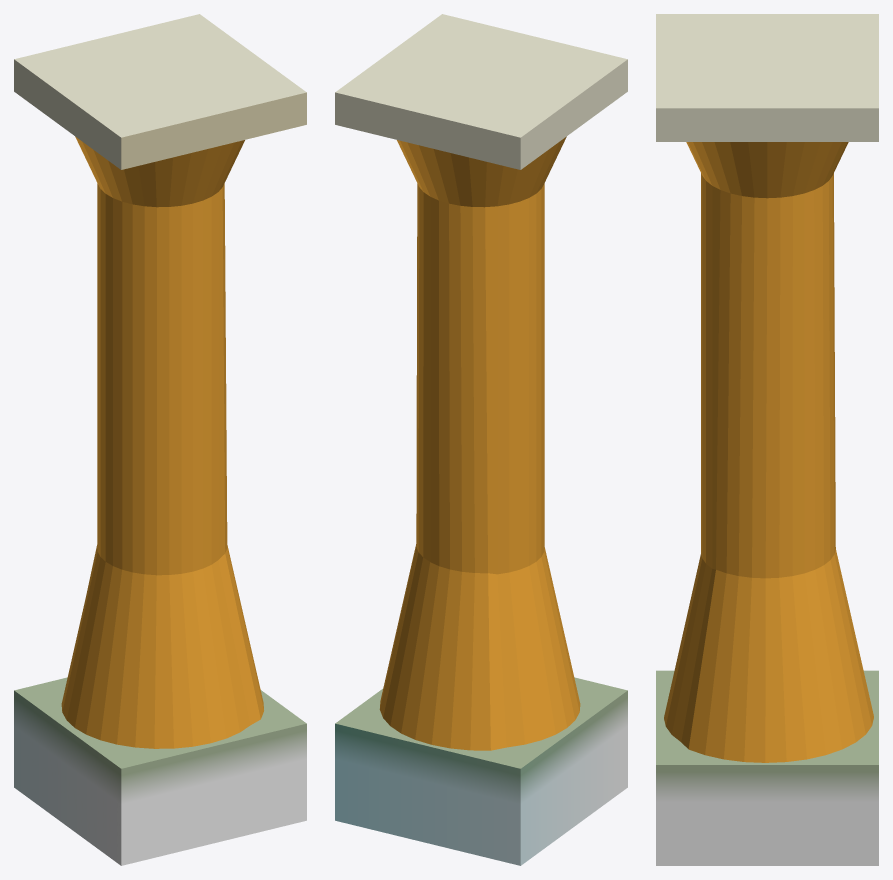
File: columna3n.fbx
3 renders of one model, left to right at view 1: azimuth 30°, elevation 25°; view 2: azimuth 150°, elevation 25°; view 3: azimuth 270°, elevation 25°, orthographic. The views are drawn at different scales.
Parts seen in each view (by area): view 1: Cylinder.001; view 2: Cylinder.001; view 3: Cylinder.001.
Boxes of the visible parts, x1=… form: Cylinder.001: x1=14, y1=14, x2=306, y2=865; Cylinder.001: x1=335, y1=14, x2=627, y2=865; Cylinder.001: x1=656, y1=14, x2=878, y2=865.
Size of the model in its own units: 300 by 1125 by 300.
Materials: 3 (3 with a texture image).
